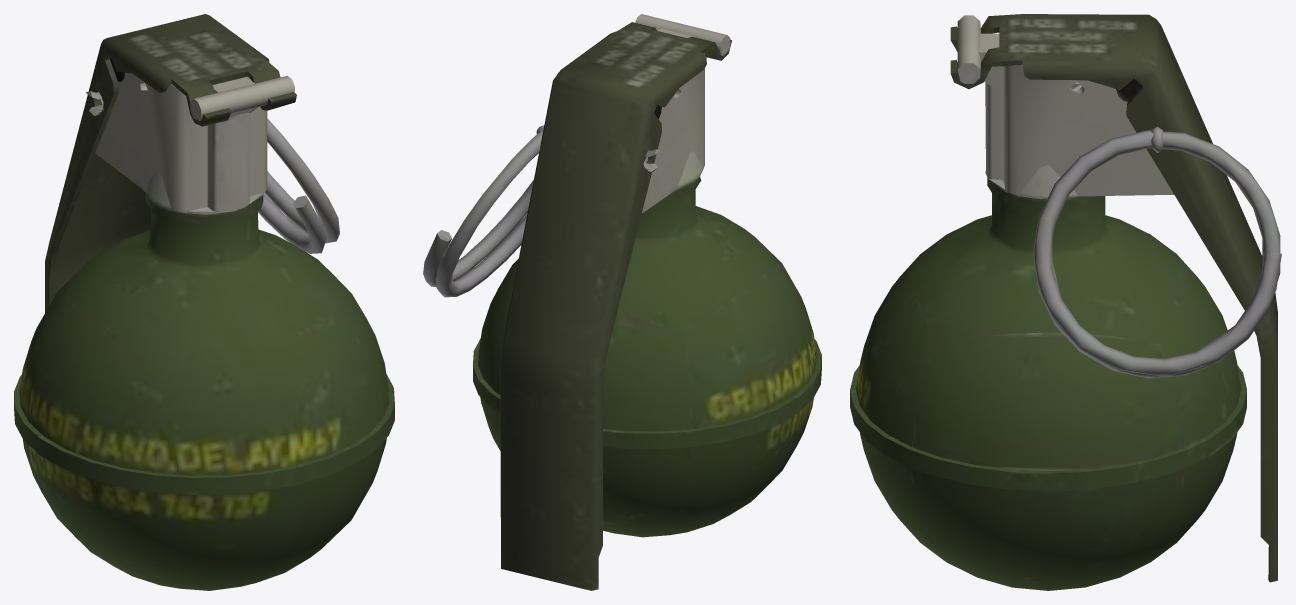
3 renders of one model, left to right at view 1: azimuth 30°, elevation 25°; view 2: azimuth 150°, elevation 25°; view 3: azimuth 270°, elevation 25°, orthographic. The views are drawn at different scales.
Parts seen in each view (by area): view 1: body_low_Material.016_0; view 2: body_low_Material.016_0; view 3: body_low_Material.016_0.
Boxes of the visible parts, x1,y1,x2,y2 form: body_low_Material.016_0: (14, 14, 394, 590); body_low_Material.016_0: (423, 14, 821, 590); body_low_Material.016_0: (850, 14, 1281, 590).
Bounding box in the file's own units: 0.0596 × 0.0887 × 0.0648.
Materials: 1 (1 with a texture image).
